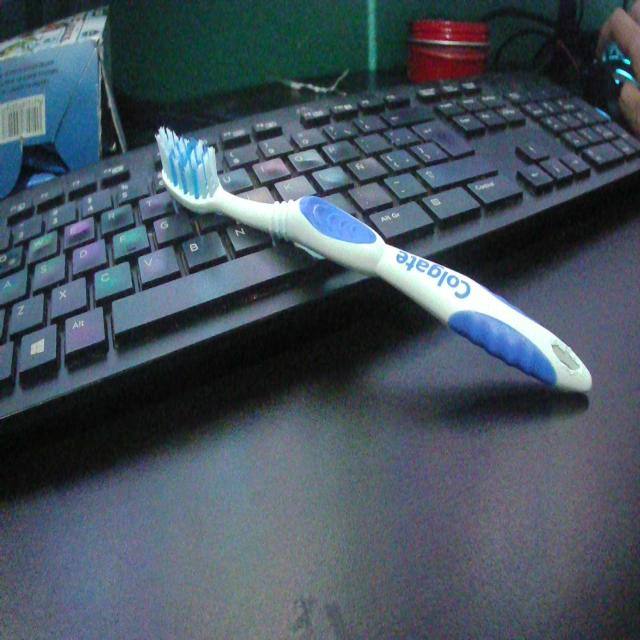Organico: (154, 114, 602, 416)
